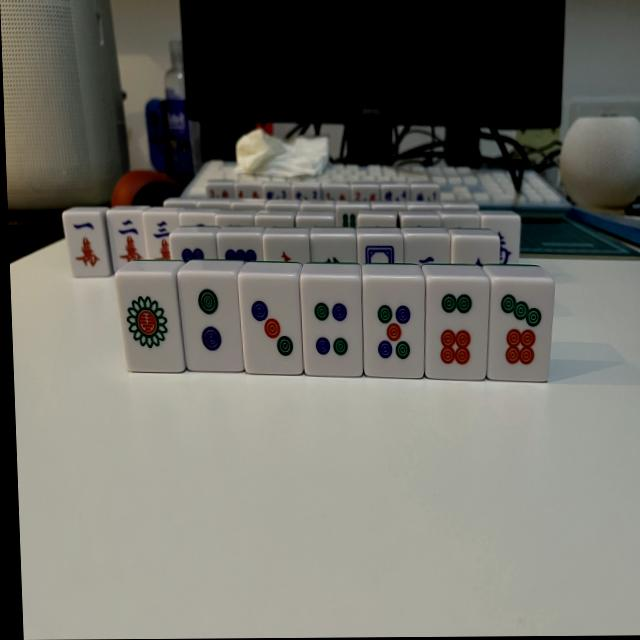m1: (64, 211, 113, 279)
m2: (106, 213, 149, 275)
m3: (143, 213, 180, 260)
t1: (115, 274, 185, 373)
t2: (178, 273, 244, 371)
t3: (238, 274, 302, 374)
t4: (301, 278, 366, 376)
t5: (361, 278, 429, 378)
t6: (423, 279, 494, 381)
t7: (483, 278, 556, 380)
